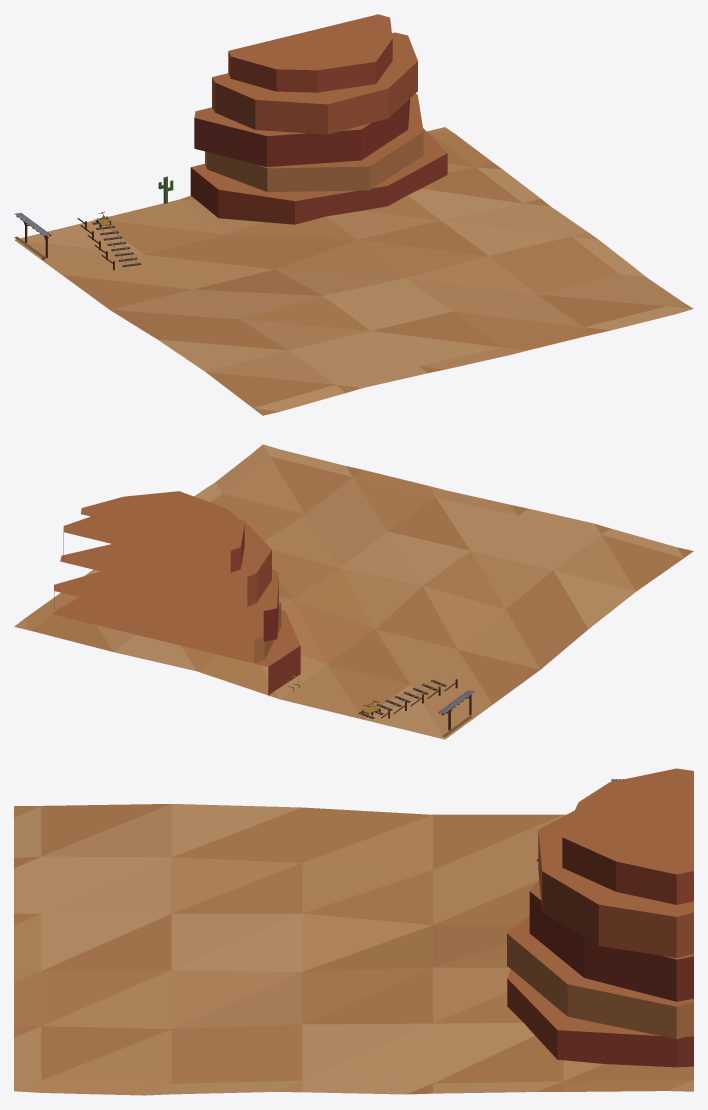
3 renders of one model, top to bottom at view 1: azimuth 30°, elevation 25°; view 2: azimuth 150°, elevation 25°; view 3: azimuth 270°, elevation 25°, orthographic. The views are drawn at different scales.
Parts seen in each view (by area): view 1: baked; view 2: baked; view 3: baked.
Boxes of the visible parts, bbox=[...] form: baked: bbox=[14, 14, 693, 415]; baked: bbox=[14, 444, 693, 739]; baked: bbox=[14, 768, 693, 1095].
Size of the model in its own units: 62.5 by 18.94 by 62.5.
